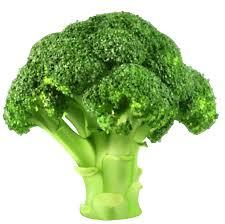non-mango: (2, 9, 219, 221)
